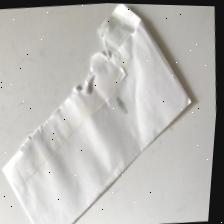paper: (0, 1, 215, 224)
